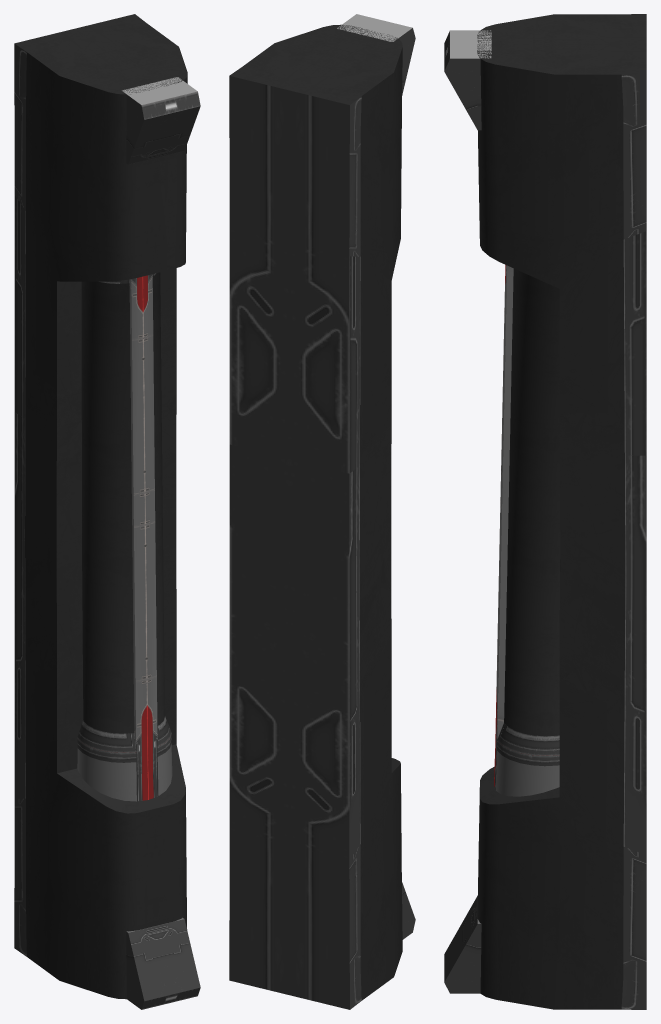
Rendered from Column_Large_Straight.gltf.
3 renders of one model, left to right at view 1: azimuth 30°, elevation 25°; view 2: azimuth 150°, elevation 25°; view 3: azimuth 270°, elevation 25°, orthographic. The views are drawn at different scales.
Visible parts, largest first — view 1: Column_Large_Straight; view 2: Column_Large_Straight; view 3: Column_Large_Straight.
Part boxes in pixels (x1=…): Column_Large_Straight: x1=14, y1=14, x2=200, y2=1009; Column_Large_Straight: x1=229, y1=14, x2=415, y2=1009; Column_Large_Straight: x1=444, y1=14, x2=646, y2=1009.
Size of the model in its own units: 1.4 by 10 by 1.96.
Materials: 4 (4 with a texture image).
